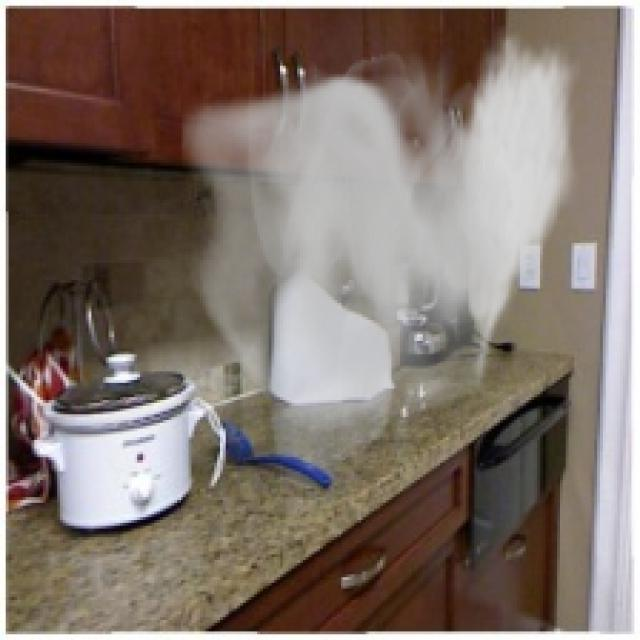smoke: (180, 26, 580, 443)
